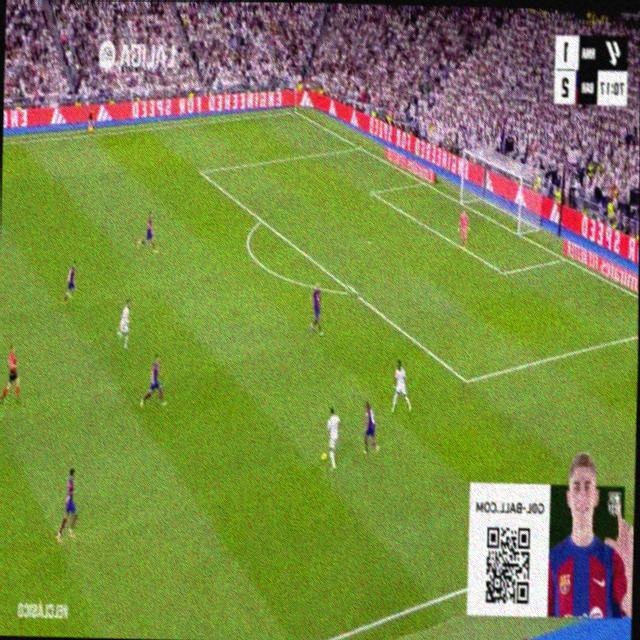bigarea_bottom_inner: (460, 367, 471, 392)
bigarea_top_inner: (198, 164, 203, 178)
bigarea_top_outter: (355, 139, 361, 151)
bottom_arc_area_intersection: (346, 281, 357, 301)
corner: (289, 104, 299, 115)
smallarea_bottom_inner: (499, 262, 508, 282)
smallarea_bottom_outter: (559, 251, 567, 265)
smallarea_top_inner: (370, 187, 374, 197)
top_arc_area_intersection: (256, 210, 265, 227)
